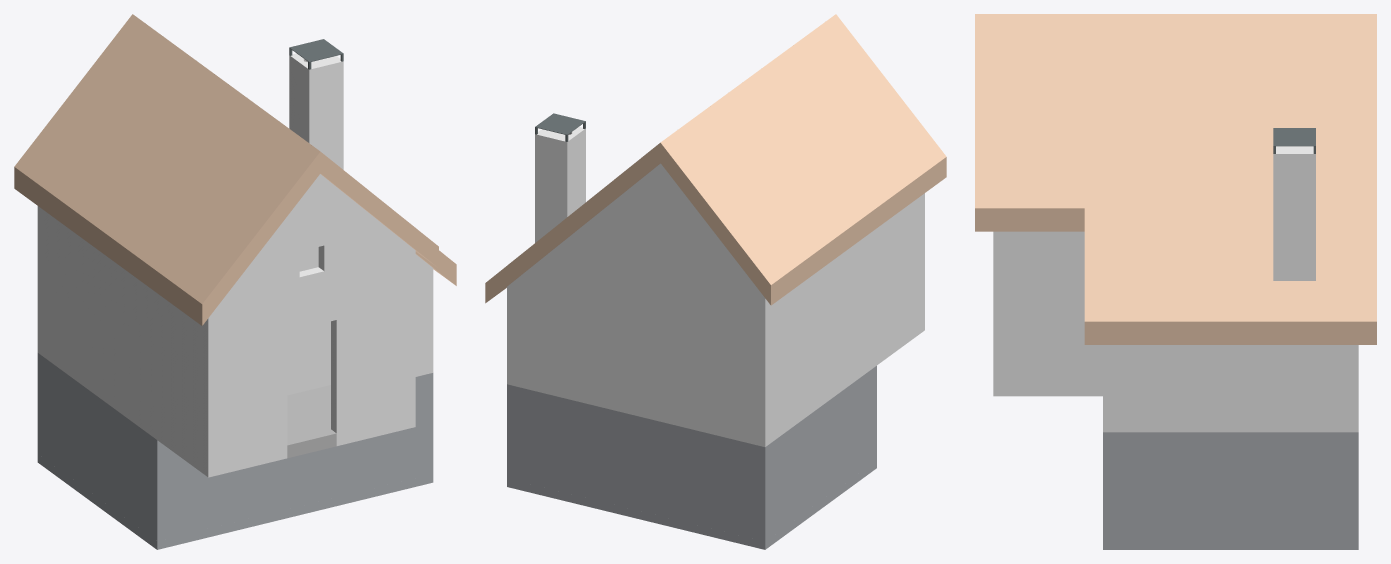
File: house_bim_shell.glb
3 views of the same model, side by side, from view 1: azimuth 30°, elevation 25°; view 2: azimuth 150°, elevation 25°; view 3: azimuth 270°, elevation 25° (orthographic). The views are drawn at different scales.
Visible parts, largest first — view 1: arch__IfcSlab__house_roof_slab_left__261, struct__IfcWall__house_outer_wall_house_front__93, arch__IfcWall__house_outer_wall_house_left__201, basement__IfcWall__cellar_wall_front, basement__IfcWall__cellar_wall_left, struct__IfcChimney__house_chimney__131, basement__IfcSlab__cellar_floor, arch__IfcSlab__house_roof_slab_right__285, struct__IfcWall__house_inner_wall__147, arch__IfcSlab__floor__53, arch__IfcWall__house_outer_wall_house_right_front__158, arch__IfcWall__house_outer_wall_house_right_back__182 (+3 smaller); view 2: struct__IfcWall__house_outer_wall_house_back__69, arch__IfcSlab__house_roof_slab_left__261, basement__IfcWall__cellar_wall_back, arch__IfcWall__house_outer_wall_house_left__201, basement__IfcWall__cellar_wall_left, struct__IfcChimney__house_chimney__131, arch__IfcSlab__house_roof_slab_right__285, basement__IfcSlab__cellar_floor, arch__IfcWall__house_outer_wall_house_right_back__182, hvac__IfcAirTerminal__chimney_cover__63, basement__IfcWall__cellar_wall_front; view 3: arch__IfcSlab__house_roof_slab_right__285, basement__IfcWall__cellar_wall_right, arch__IfcWall__house_outer_wall_house_right_back__182, arch__IfcWall__house_outer_wall_house_right_front__158, struct__IfcChimney__house_chimney__131, basement__IfcSlab__cellar_floor, basement__IfcWall__cellar_wall_back, basement__IfcWall__cellar_wall_front, hvac__IfcAirTerminal__chimney_cover__63.
Part boxes in pixels (x1,y1,x2,y2): arch__IfcSlab__house_roof_slab_left__261: (14, 14, 320, 325); struct__IfcWall__house_outer_wall_house_front__93: (218, 174, 405, 474); arch__IfcWall__house_outer_wall_house_left__201: (37, 206, 218, 477); basement__IfcWall__cellar_wall_front: (151, 373, 433, 540); basement__IfcWall__cellar_wall_left: (43, 357, 151, 536); struct__IfcChimney__house_chimney__131: (289, 53, 343, 169); basement__IfcSlab__cellar_floor: (37, 454, 433, 549); arch__IfcSlab__house_roof_slab_right__285: (320, 152, 456, 285); struct__IfcWall__house_inner_wall__147: (287, 247, 330, 395); arch__IfcSlab__floor__53: (287, 385, 336, 458); arch__IfcWall__house_outer_wall_house_right_front__158: (405, 242, 415, 429); arch__IfcWall__house_outer_wall_house_right_back__182: (423, 260, 433, 374); struct__IfcWall__house_outer_wall_house_back__69: (516, 163, 755, 444); arch__IfcSlab__house_roof_slab_left__261: (660, 14, 946, 305); basement__IfcWall__cellar_wall_back: (507, 384, 770, 541); arch__IfcWall__house_outer_wall_house_left__201: (756, 193, 924, 446); basement__IfcWall__cellar_wall_left: (770, 369, 871, 537); struct__IfcChimney__house_chimney__131: (535, 127, 585, 242); arch__IfcSlab__house_roof_slab_right__285: (485, 143, 660, 303); basement__IfcSlab__cellar_floor: (507, 460, 876, 549); arch__IfcWall__house_outer_wall_house_right_back__182: (507, 279, 516, 386); hvac__IfcAirTerminal__chimney_cover__63: (535, 113, 585, 141); basement__IfcWall__cellar_wall_front: (871, 366, 876, 463); arch__IfcSlab__house_roof_slab_right__285: (975, 14, 1376, 344); basement__IfcWall__cellar_wall_right: (1115, 432, 1346, 540); arch__IfcWall__house_outer_wall_house_right_back__182: (1103, 345, 1358, 432); arch__IfcWall__house_outer_wall_house_right_front__158: (993, 231, 1102, 396); struct__IfcChimney__house_chimney__131: (1273, 146, 1315, 280); basement__IfcSlab__cellar_floor: (1103, 540, 1358, 549); basement__IfcWall__cellar_wall_back: (1346, 432, 1358, 540); basement__IfcWall__cellar_wall_front: (1103, 432, 1114, 540); hvac__IfcAirTerminal__chimney_cover__63: (1273, 128, 1315, 153).
Size of the model in its own units: 8.99 by 11.72 by 9.57.
